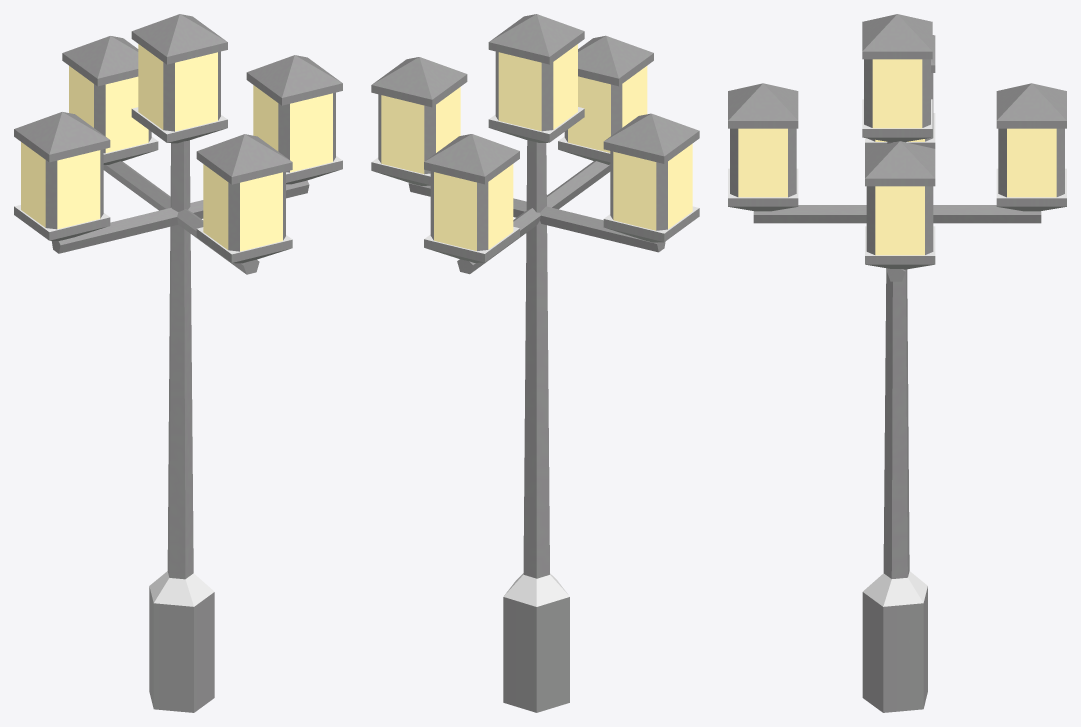
Rendered from stolb.005.glb.
3 renders of one model, left to right at view 1: azimuth 30°, elevation 25°; view 2: azimuth 150°, elevation 25°; view 3: azimuth 270°, elevation 25°, orthographic.
Parts seen in each view (by area): view 1: stolb.005(Clone); view 2: stolb.005(Clone); view 3: stolb.005(Clone).
Boxes of the visible parts, box(x1,y1,x2,y2) form: stolb.005(Clone): box(14, 14, 342, 712); stolb.005(Clone): box(371, 14, 699, 712); stolb.005(Clone): box(728, 14, 1066, 712).
Size of the model in its own units: 1.51 by 3.36 by 1.51.
1 material, 1 textured.
